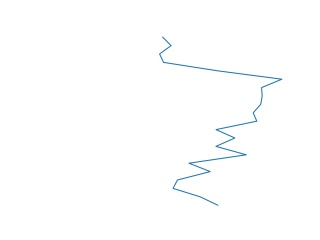floodPlain: (159, 37, 285, 207)
